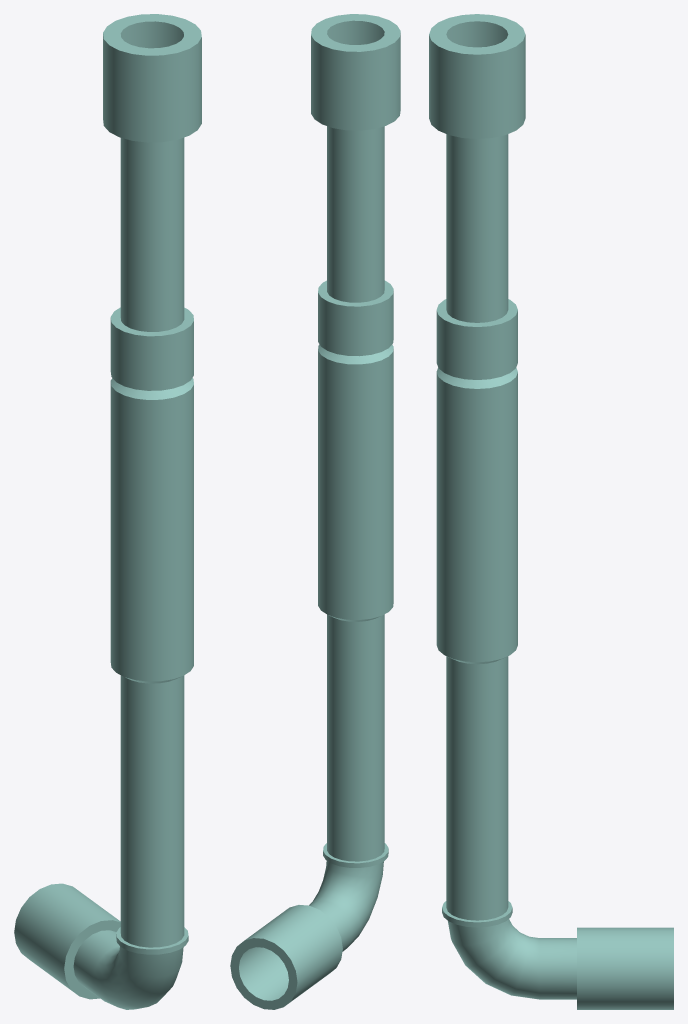
Rendered from Pipe_Vertical_Small_6.fbx.
The picture shows the model from 3 angles, left to right: view 1: azimuth 30°, elevation 25°; view 2: azimuth 150°, elevation 25°; view 3: azimuth 270°, elevation 25°; orthographic projection. The views are drawn at different scales.
Parts seen in each view (by area): view 1: Pipe_Vertical_Small_6; view 2: Pipe_Vertical_Small_6; view 3: Pipe_Vertical_Small_6.
Boxes of the visible parts, left/top/right/bottom form: Pipe_Vertical_Small_6: left=14, top=14, right=201, bottom=1009; Pipe_Vertical_Small_6: left=230, top=14, right=400, bottom=1009; Pipe_Vertical_Small_6: left=429, top=14, right=673, bottom=1009.
Bounding box in the file's own units: 20.03 × 223 × 50.83.
